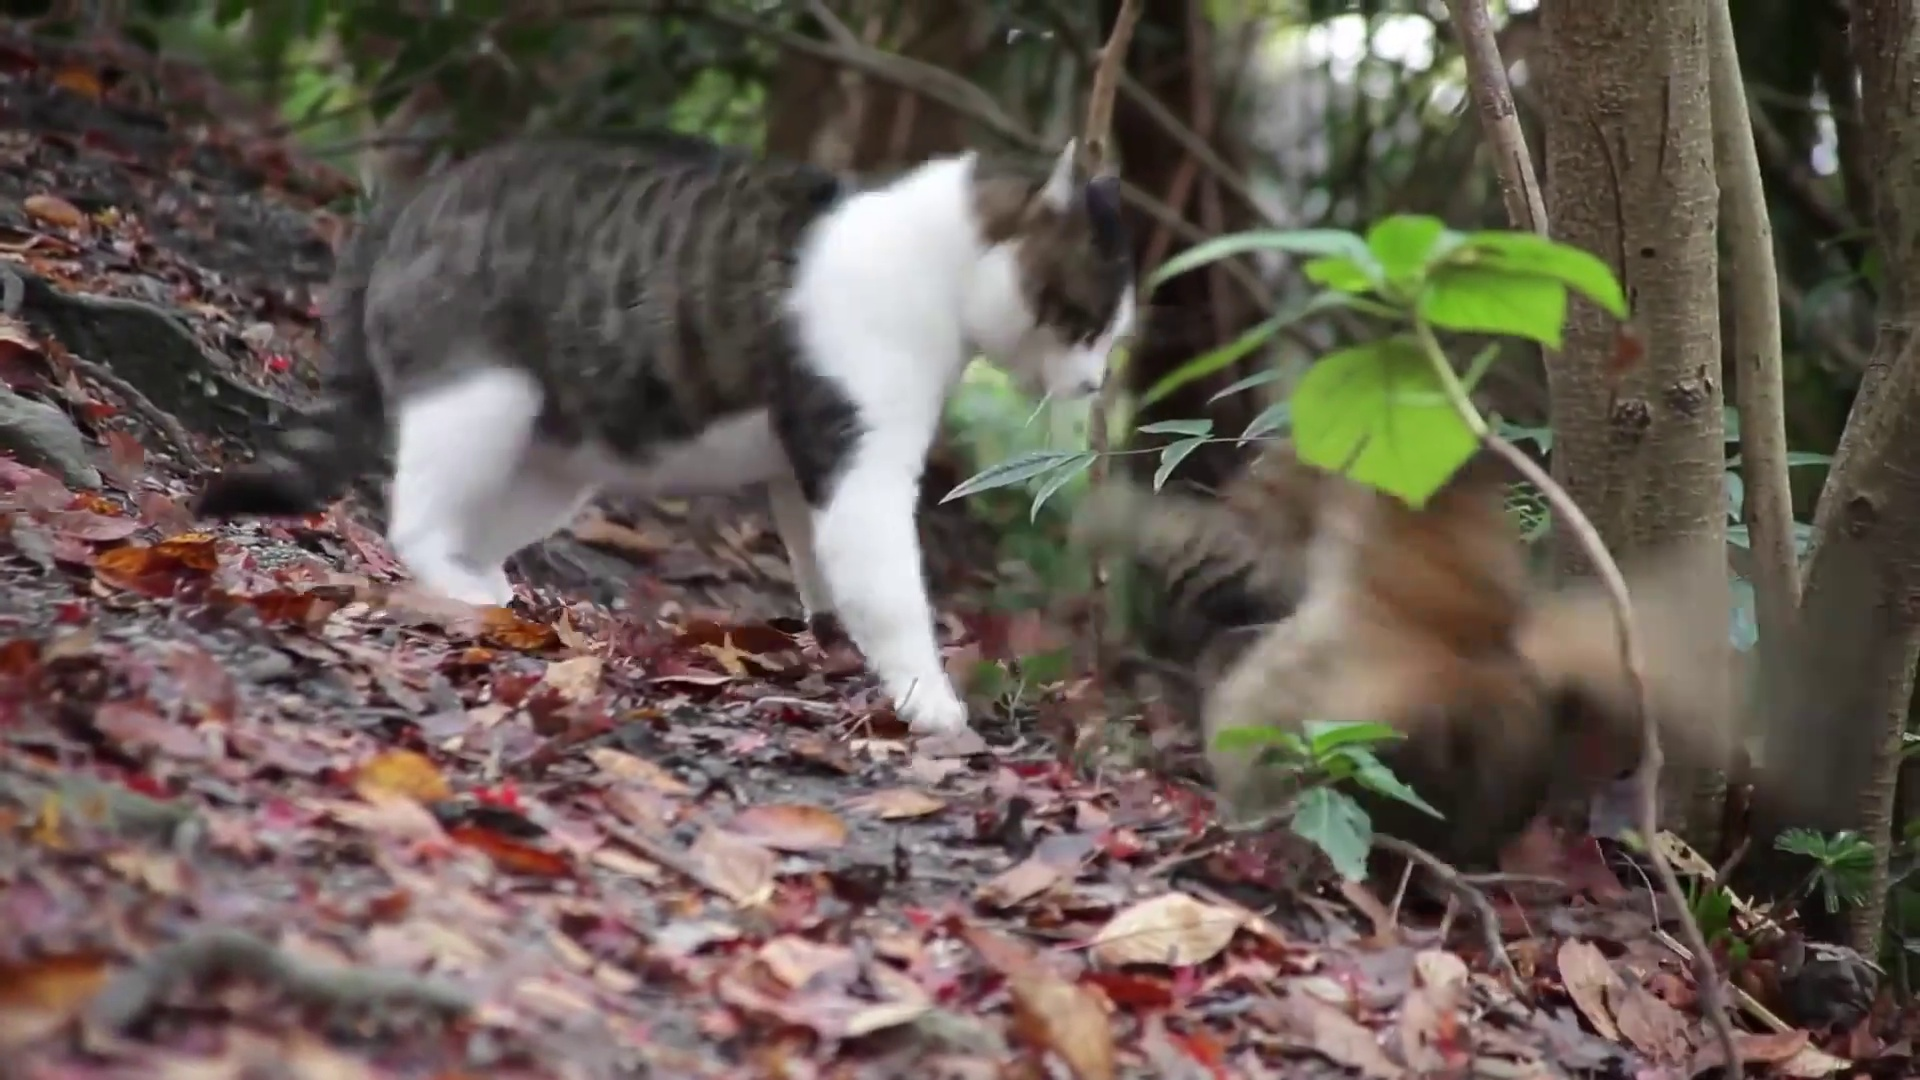black-white: (367, 133, 1137, 738)
pure black: (1075, 442, 1619, 825)
